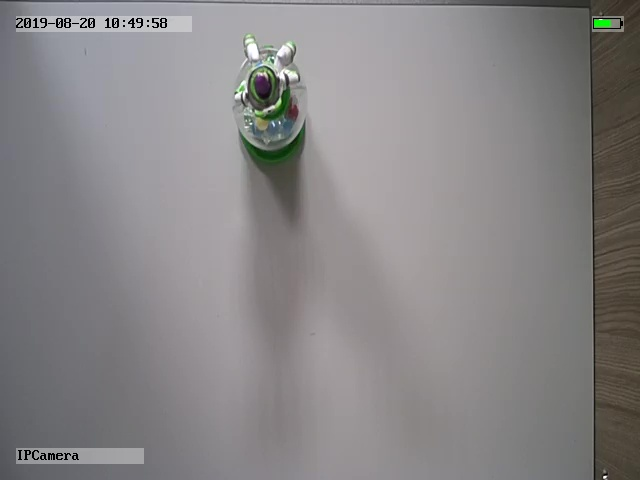buzz: (230, 31, 311, 169)
